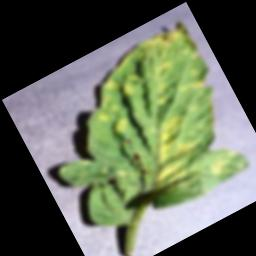Leaf_Mold: (127, 109, 208, 192), (106, 18, 193, 79), (206, 147, 247, 184), (115, 69, 145, 98), (108, 113, 133, 138), (180, 74, 207, 96), (150, 57, 176, 78), (101, 74, 119, 93), (95, 108, 111, 124), (153, 94, 167, 106)
